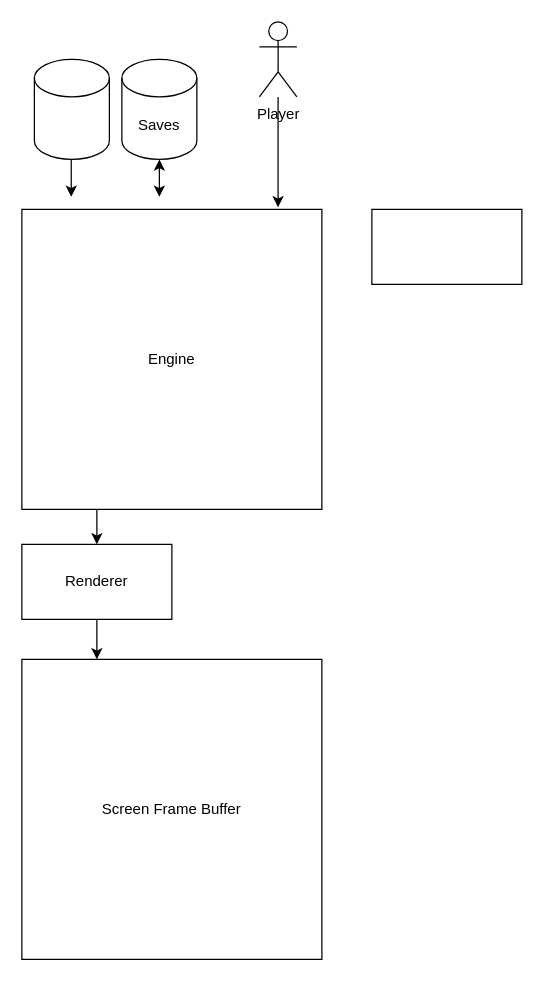
Image size: 544x981. Some labels were removed from this diagram. The box of each missing label's shape, as (x1, y1, x2, y2) in pixels:
Saturn Database: (33, 58, 109, 159)
Texture System: (371, 208, 522, 284)
